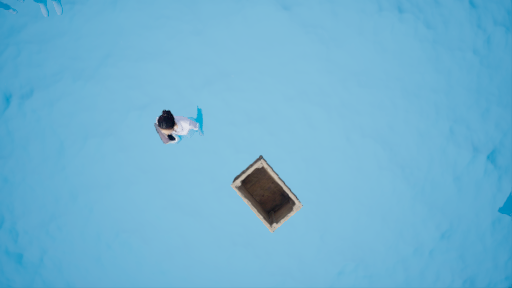person: (149, 100, 209, 147)
